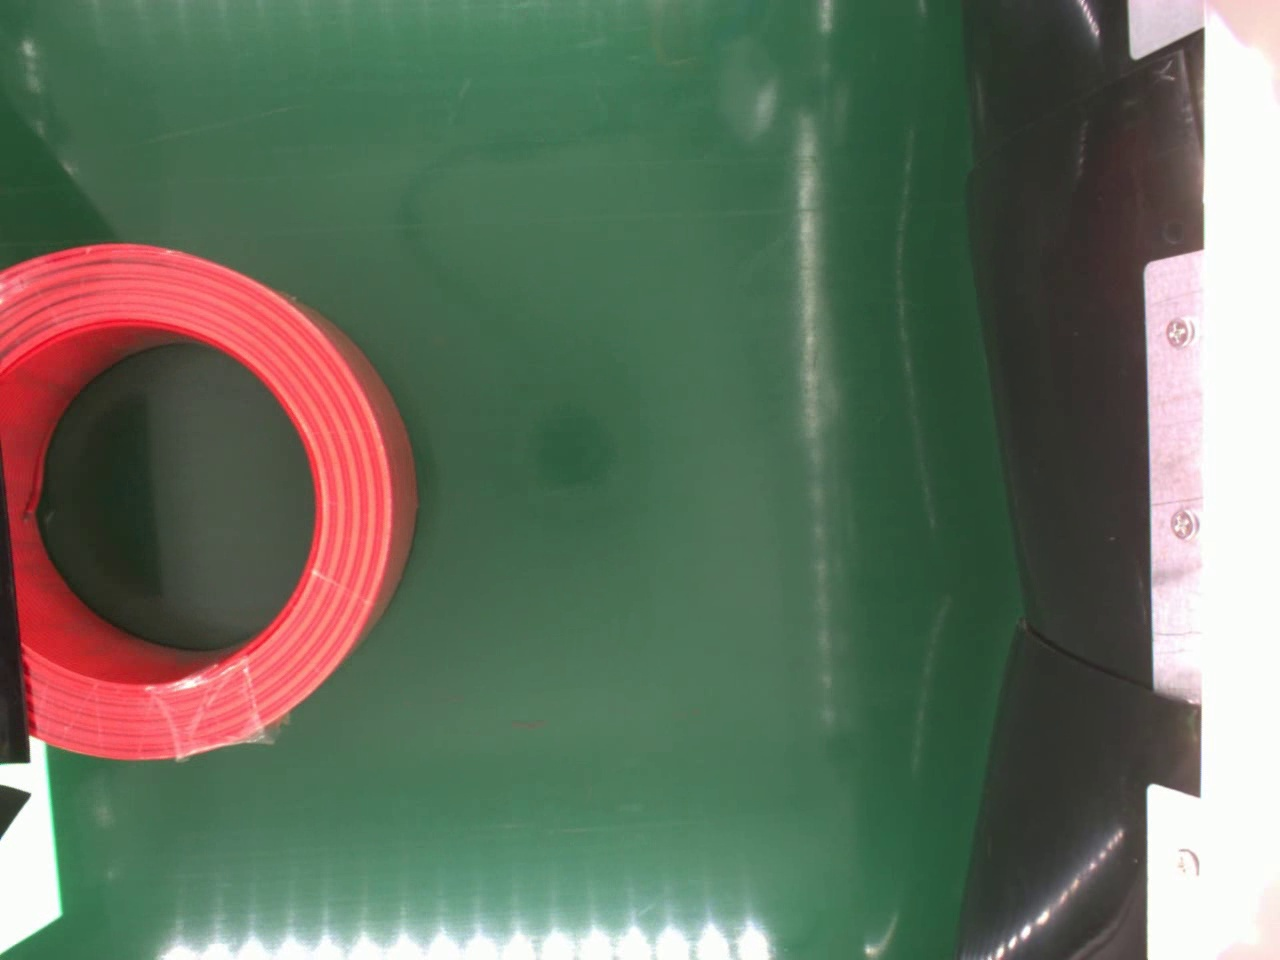red: (0, 241, 418, 759)
